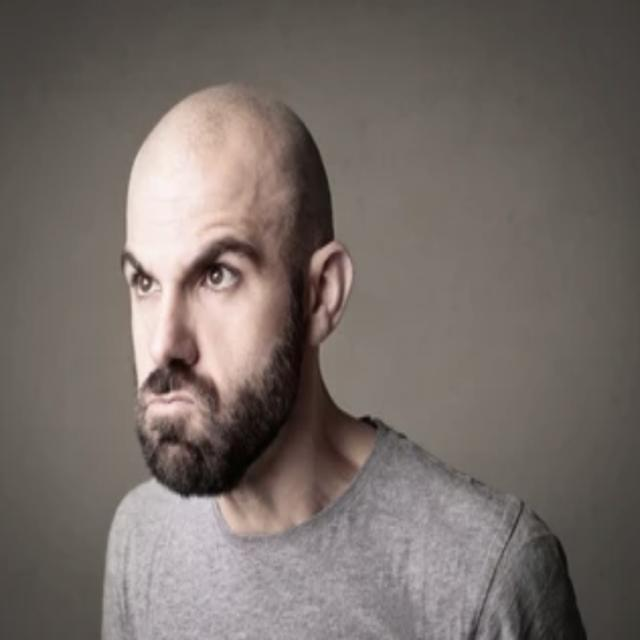angry: (98, 86, 350, 496)
